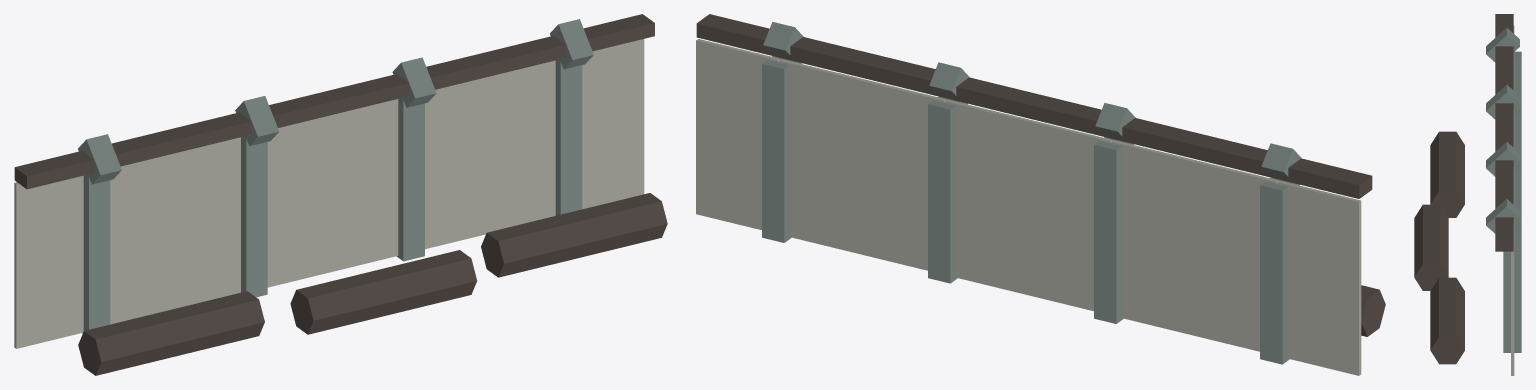
File: SM_VallaBase_v4_LOD1.fbx
3 renders of one model, left to right at view 1: azimuth 30°, elevation 25°; view 2: azimuth 150°, elevation 25°; view 3: azimuth 270°, elevation 25°, orthographic. The views are drawn at different scales.
Visible parts, largest first — view 1: SM_valla_base_v4_LOD1; view 2: SM_valla_base_v4_LOD1; view 3: SM_valla_base_v4_LOD1.
Part boxes in pixels (box(x1,y1,x2,y2)): SM_valla_base_v4_LOD1: box(14, 14, 667, 375); SM_valla_base_v4_LOD1: box(696, 14, 1385, 375); SM_valla_base_v4_LOD1: box(1414, 14, 1521, 375).
Bounding box in the file's own units: 9.98 × 2.99 × 1.99.
